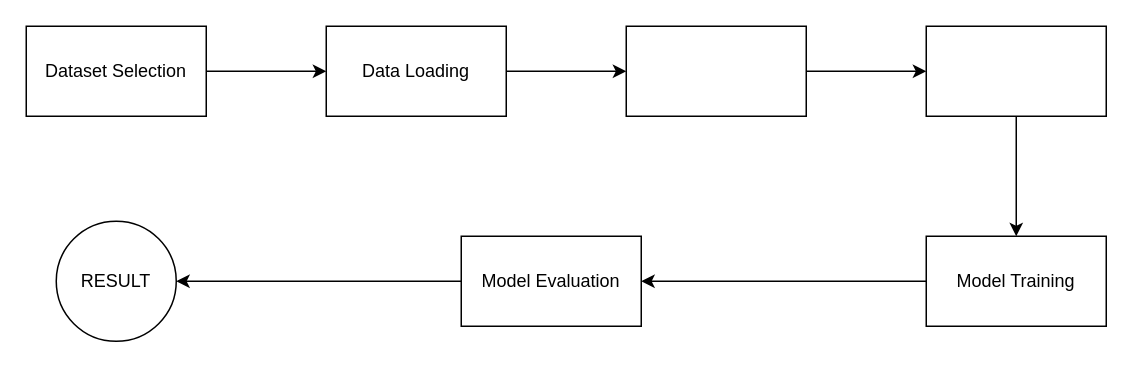
The diagram is 1133 pixels wide and 368 high, and some of its shapes have lost their labels. The shapes that lost their labels are listed below. From the top down, each one's centre as x and y in pixels, then its label:
At point 715,70: "Data Preprocessing".
At point 1015,70: "Train and Test Split".
